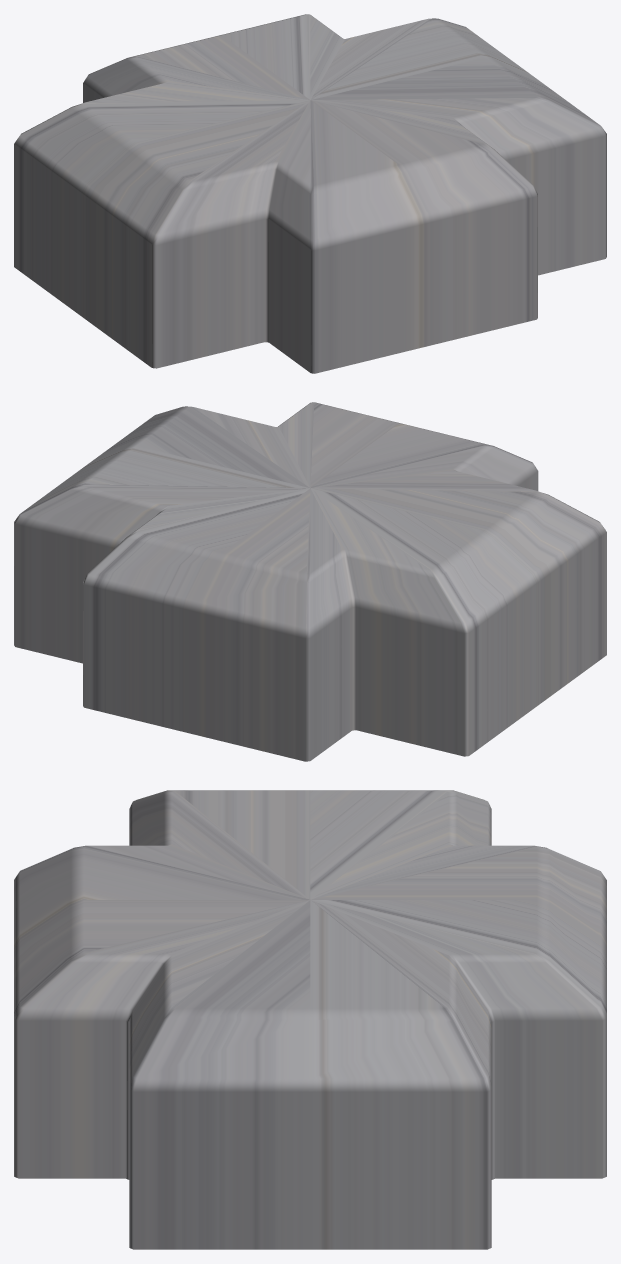
Rendered from SM_WallArchColumnEnd.fbx.
The picture shows the model from 3 angles, top to bottom: view 1: azimuth 30°, elevation 25°; view 2: azimuth 150°, elevation 25°; view 3: azimuth 270°, elevation 25°; orthographic projection. The views are drawn at different scales.
Parts seen in each view (by area): view 1: SM_WallArchColumnEnd; view 2: SM_WallArchColumnEnd; view 3: SM_WallArchColumnEnd.
Part boxes in pixels (left/top/right/bottom): SM_WallArchColumnEnd: left=14, top=14, right=606, bottom=373; SM_WallArchColumnEnd: left=14, top=402, right=606, bottom=761; SM_WallArchColumnEnd: left=14, top=790, right=606, bottom=1249.
Bounding box in the file's own units: 1.49 × 0.5052 × 1.31.
